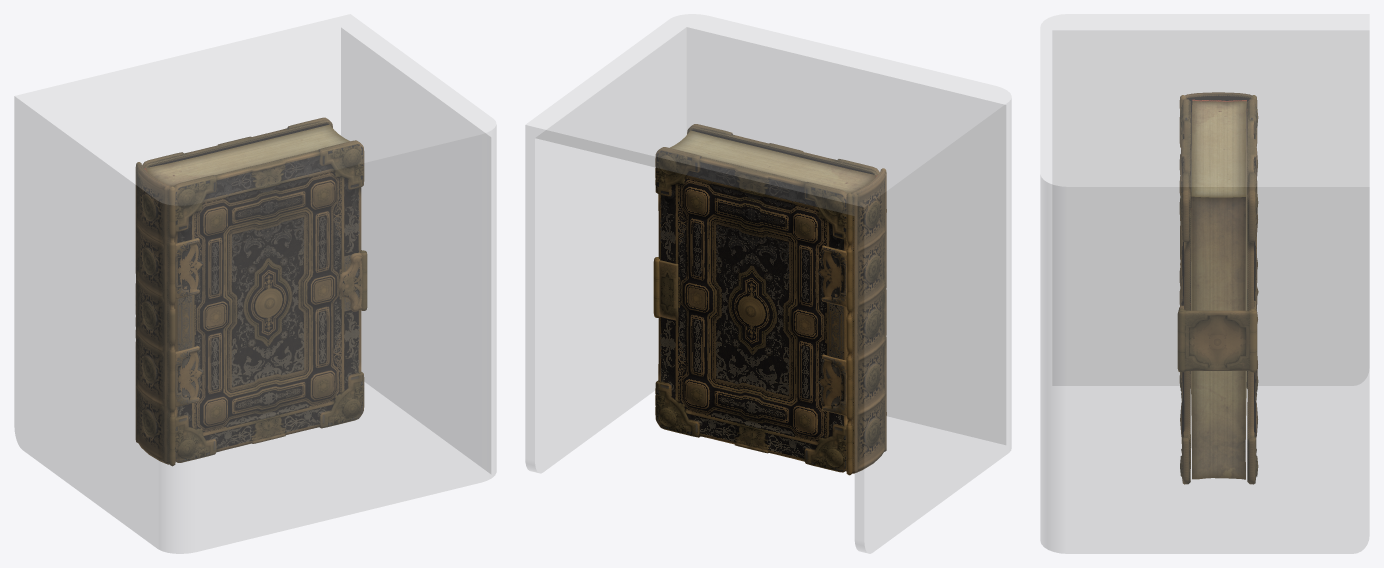
File: bookTransmission0.gltf
The picture shows the model from 3 angles, left to right: view 1: azimuth 30°, elevation 25°; view 2: azimuth 150°, elevation 25°; view 3: azimuth 270°, elevation 25°; orthographic projection. The views are drawn at different scales.
Parts seen in each view (by area): view 1: node_id54, node_id13, node_id16, node_id19, node_id7, node_id10; view 2: node_id54, node_id10, node_id16, node_id19, node_id7, node_id13; view 3: node_id54, node_id19, node_id7, node_id10, node_id13, node_id16.
Boxes of the visible parts, bbox=[...] form: node_id54: bbox=[14, 14, 496, 553]; node_id13: bbox=[174, 140, 364, 462]; node_id16: bbox=[135, 162, 175, 466]; node_id19: bbox=[144, 122, 362, 311]; node_id7: bbox=[175, 238, 367, 407]; node_id10: bbox=[142, 117, 332, 168]; node_id54: bbox=[525, 14, 1011, 553]; node_id10: bbox=[655, 147, 847, 472]; node_id16: bbox=[846, 168, 886, 475]; node_id19: bbox=[669, 128, 877, 193]; node_id7: bbox=[653, 245, 846, 415]; node_id13: bbox=[687, 124, 879, 175]; node_id54: bbox=[1040, 14, 1369, 553]; node_id19: bbox=[1179, 94, 1250, 479]; node_id7: bbox=[1177, 170, 1257, 372]; node_id10: bbox=[1247, 99, 1258, 484]; node_id13: bbox=[1179, 99, 1190, 484]; node_id16: bbox=[1179, 92, 1257, 387].
Size of the model in its own units: 0.6446 by 0.6381 by 0.5188.
Materials: 6 (5 with a texture image).
